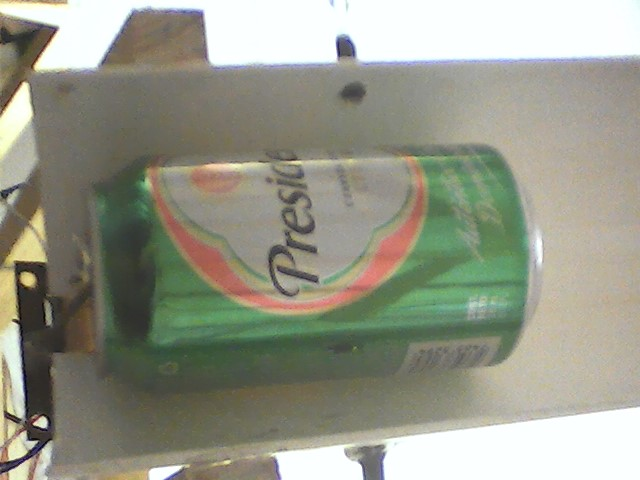lata: (80, 140, 551, 402)
